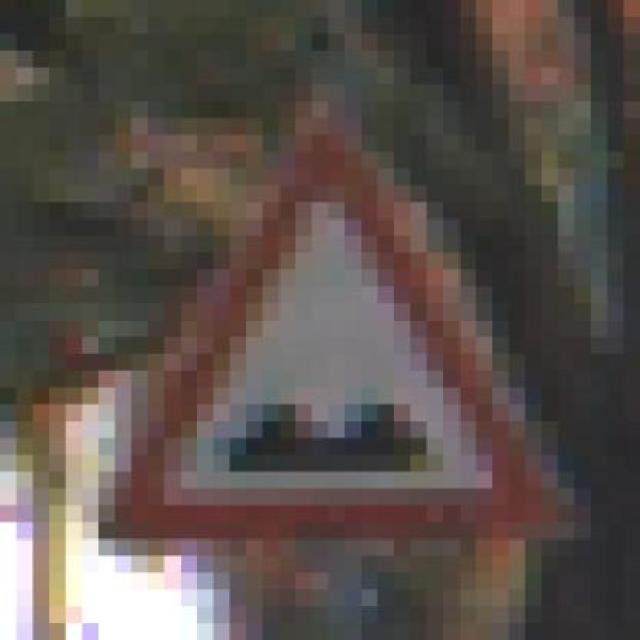Uneven Road: (61, 94, 587, 566)
